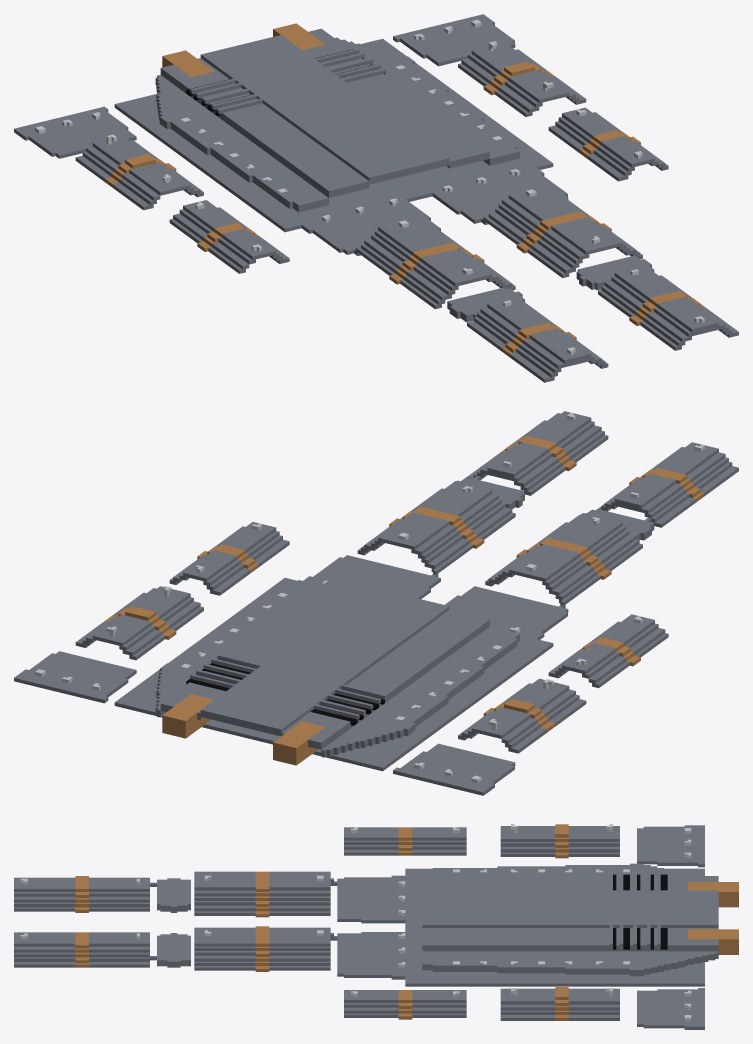
Rendered from armor_ch_metal_sheets.glb.
The picture shows the model from 3 angles, top to bottom: view 1: azimuth 30°, elevation 25°; view 2: azimuth 150°, elevation 25°; view 3: azimuth 270°, elevation 25°; orthographic projection. The views are drawn at different scales.
Visible parts, largest first — view 1: armor_ch_metal_sheets:compound; view 2: armor_ch_metal_sheets:compound; view 3: armor_ch_metal_sheets:compound.
Part boxes in pixels (bbox=[...]): armor_ch_metal_sheets:compound: bbox=[14, 14, 738, 382]; armor_ch_metal_sheets:compound: bbox=[14, 411, 738, 795]; armor_ch_metal_sheets:compound: bbox=[14, 824, 738, 1029].
Bounding box in the file's own units: 0.84 × 0.048 × 1.28.
